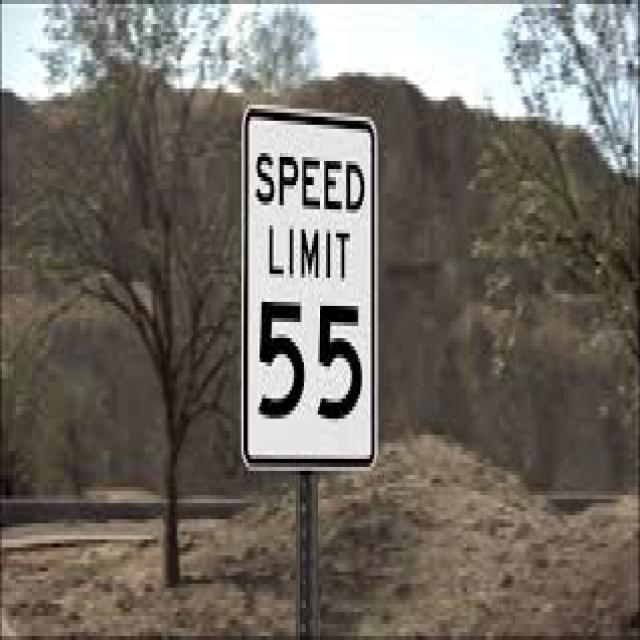speedLimit55: (243, 104, 376, 470)
